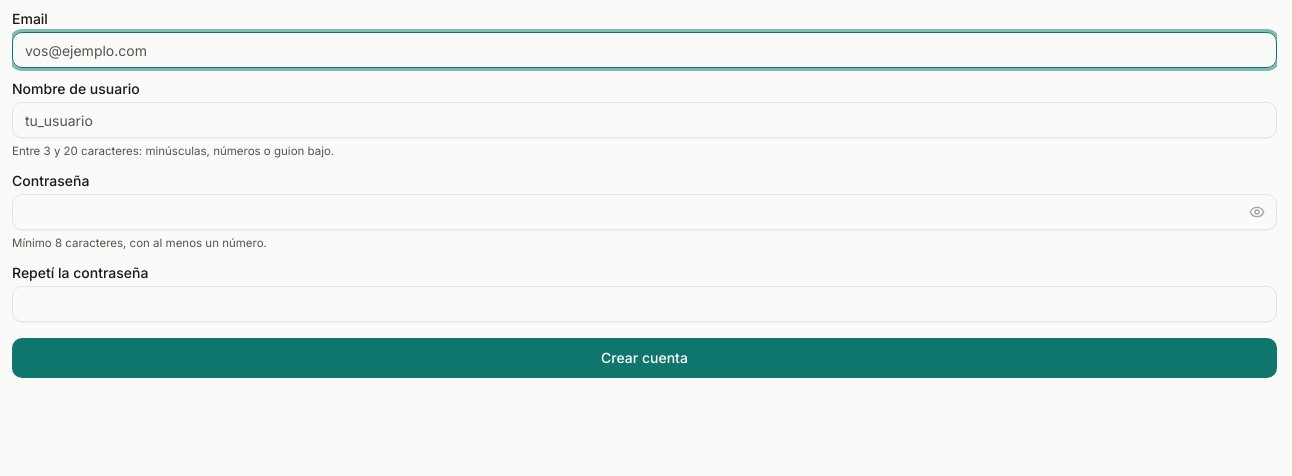
Test: SignupForm › keeps the requirements help text visible alongside a password error
The width and height of the screenshot is (1292, 476).
Type "short" into the password field labelled "Contraseña" at (644, 212), box [12, 194, 1277, 230]
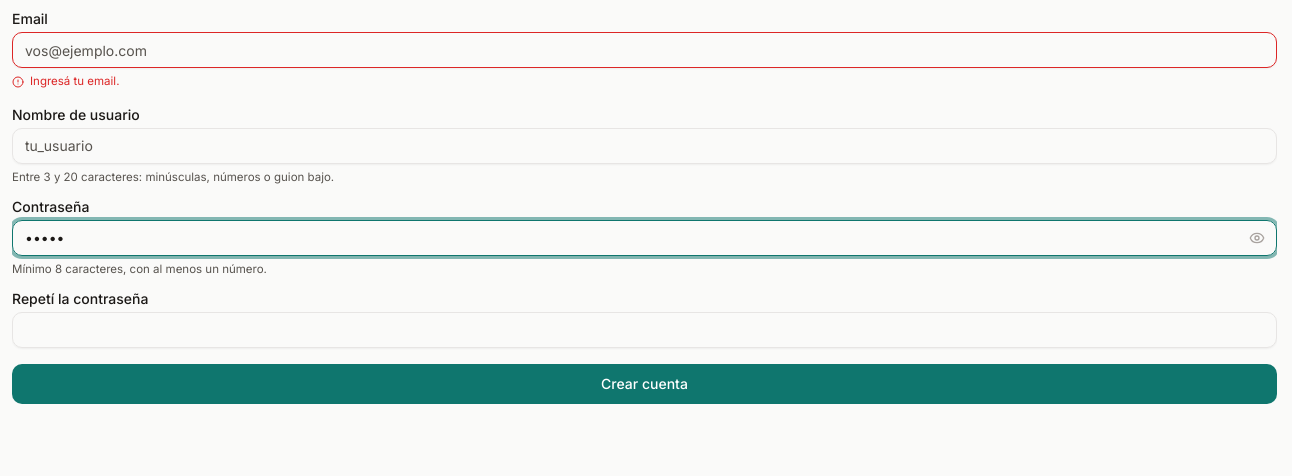
Click the button "Crear cuenta" at (644, 384), box [12, 364, 1277, 404]
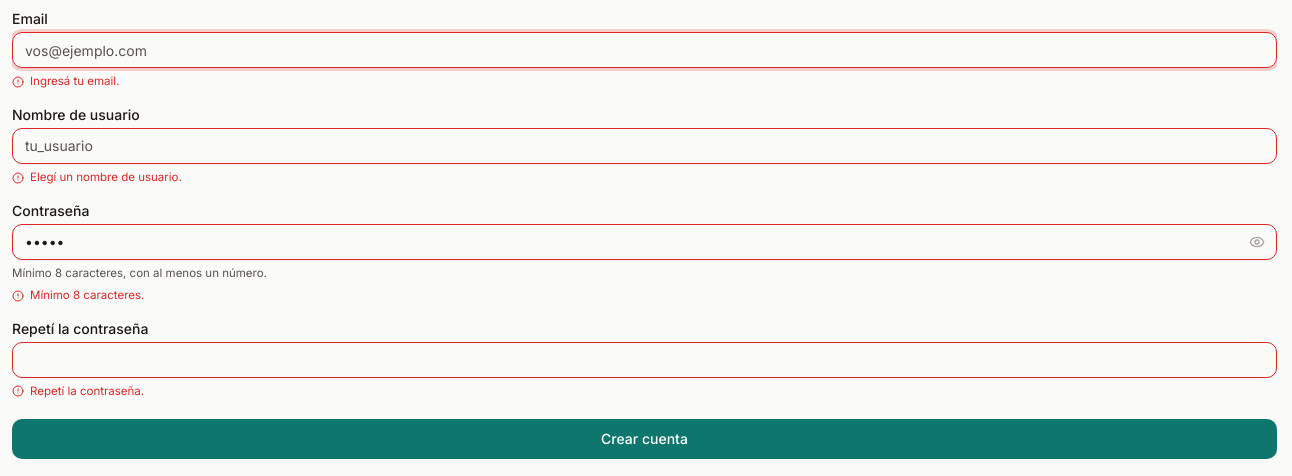
Expected: the text "Mínimo 8 caracteres, con al menos un número." is shown, [12, 266, 267, 280]
Now the text "Mínimo 8 caracteres." is shown, box [12, 288, 144, 303]
